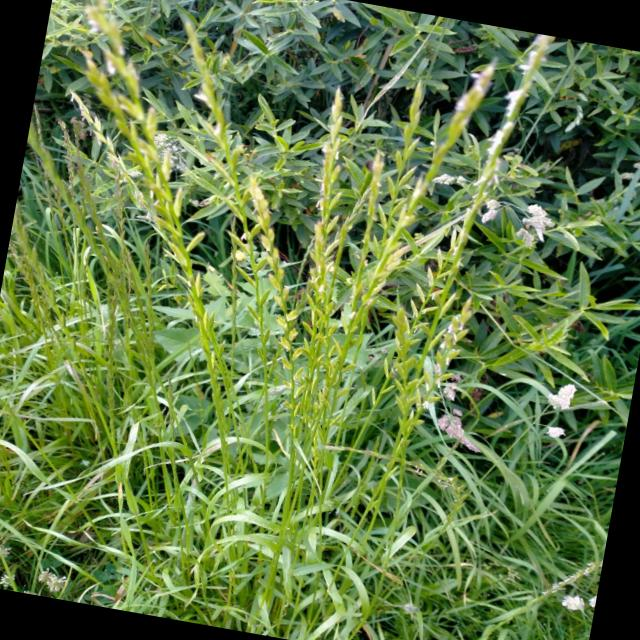Lolium: (2, 0, 334, 501), (93, 9, 382, 520), (300, 49, 505, 522), (254, 88, 410, 500)
